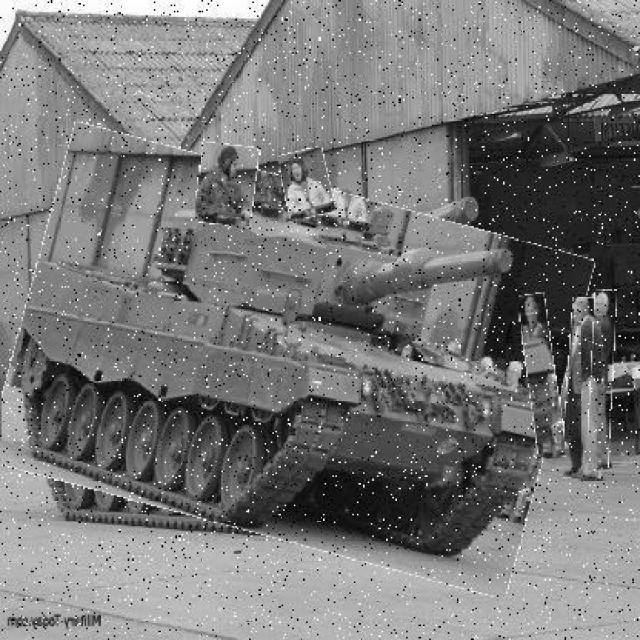Person: (566, 299, 610, 481), (524, 295, 563, 459), (197, 144, 260, 227), (589, 290, 616, 470), (281, 151, 333, 220)
Tank: (2, 155, 578, 567)
